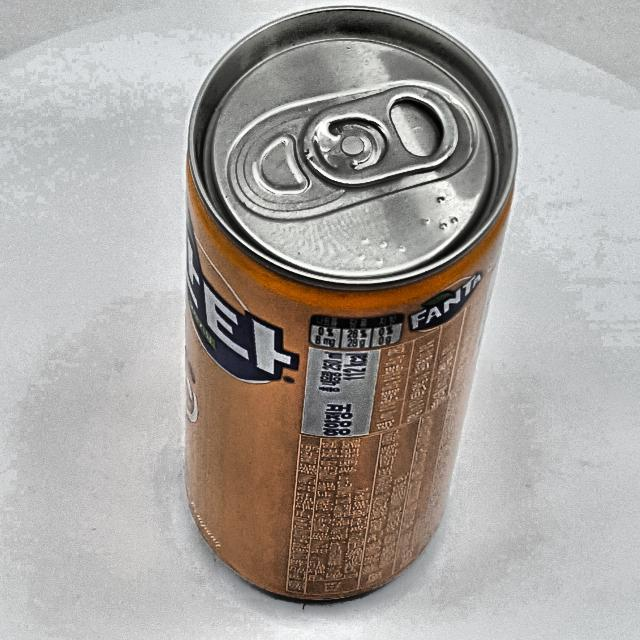fantaorange: (186, 8, 516, 600)
